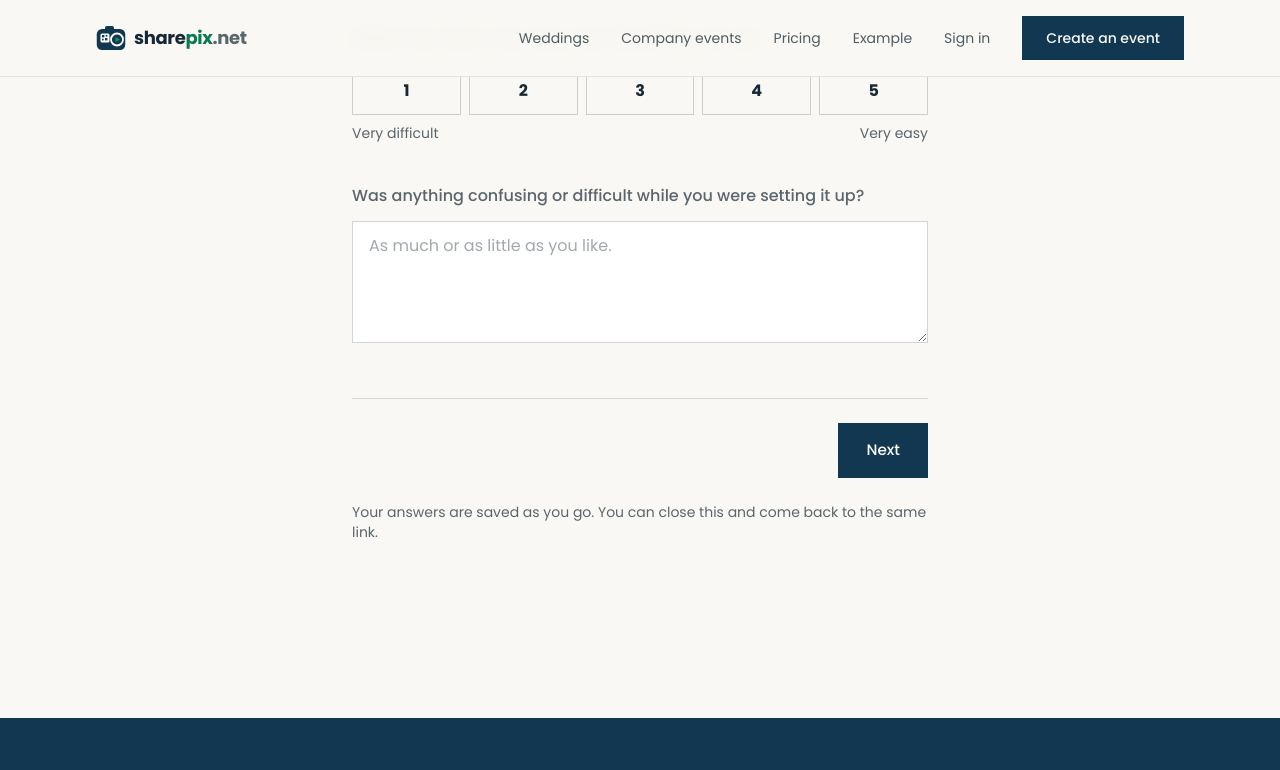
Test case: submitting › sends the answers and shows the thank-you
The width and height of the screenshot is (1280, 770).
(page scrolled)
What coordinates should you click on to do the following:
click the button "Next"
I would click on:
 (883, 450)
Its box is x1=838 y1=423 x2=928 y2=478.
(page scrolled)
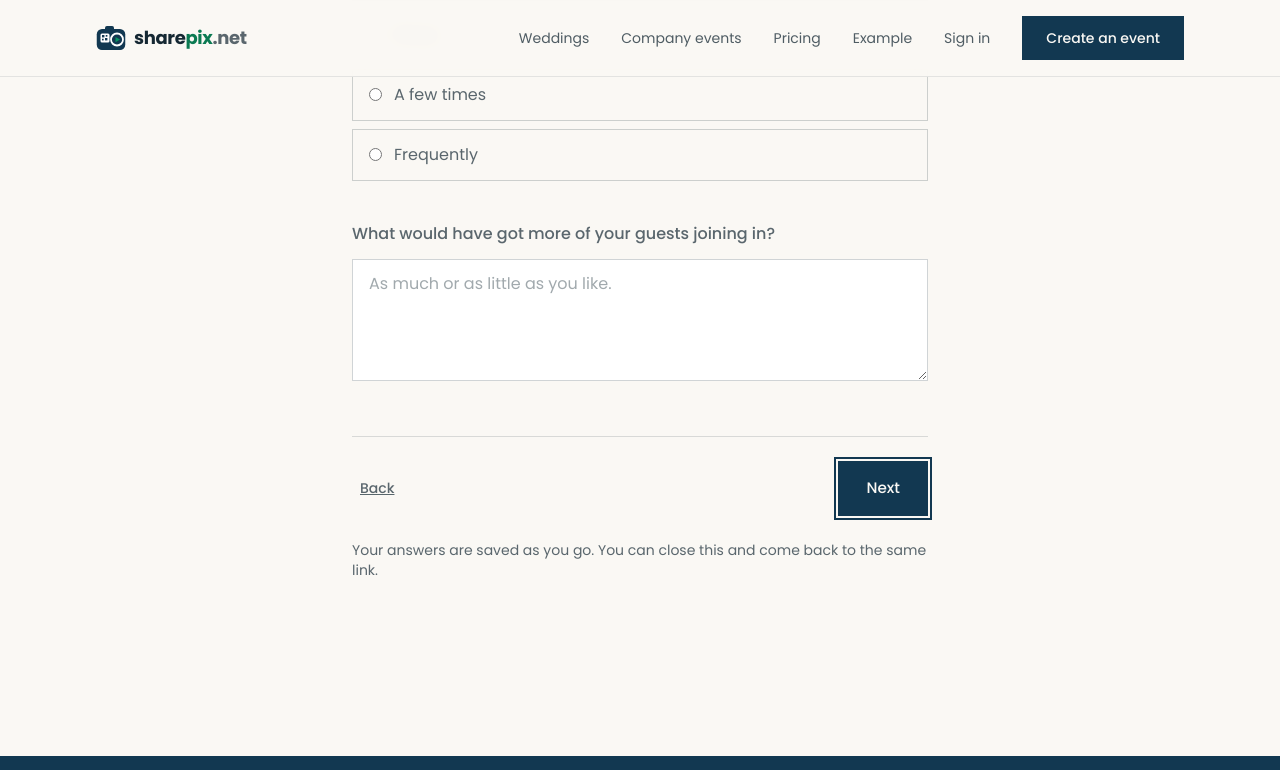
What coordinates should you click on to do the following:
click the button "Next"
I would click on:
 (883, 488)
Its box is x1=838 y1=461 x2=928 y2=516.
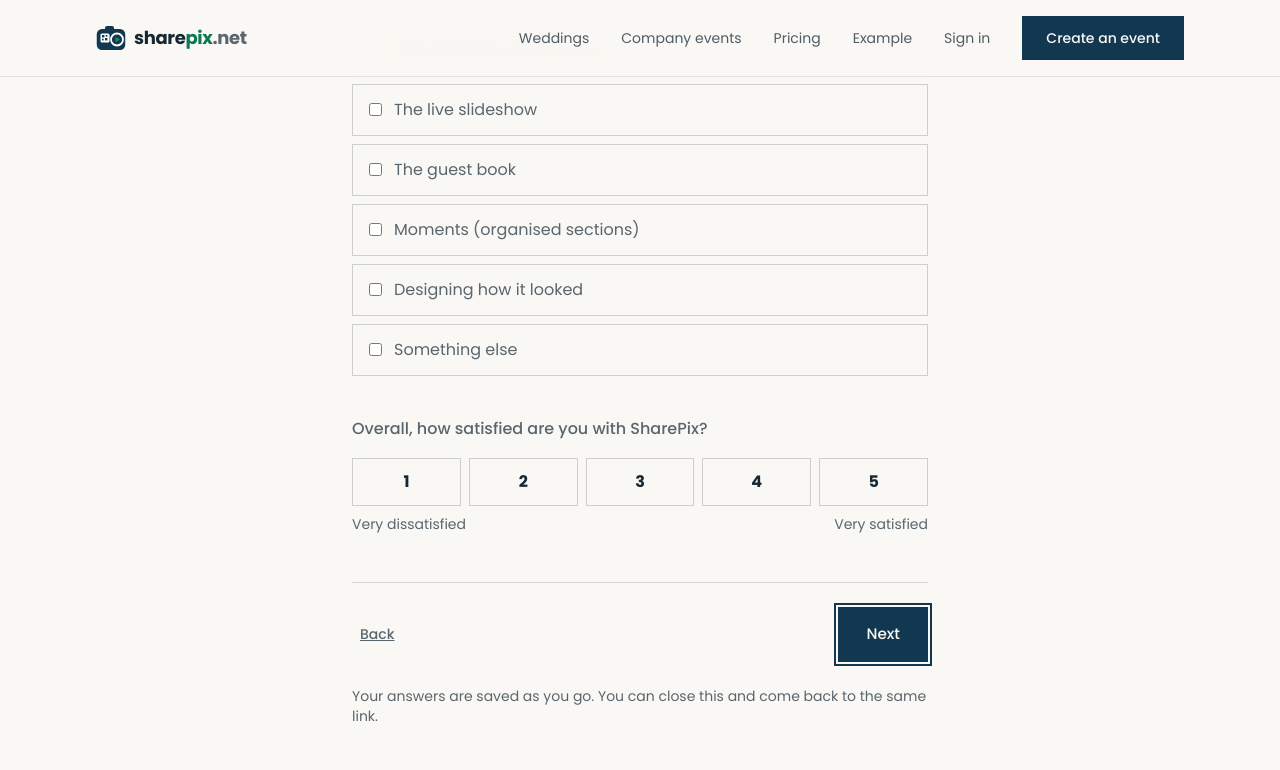
What coordinates should you click on to do the following:
click the button "Next"
I would click on:
 (883, 634)
Its box is x1=838 y1=607 x2=928 y2=662.
(page scrolled)
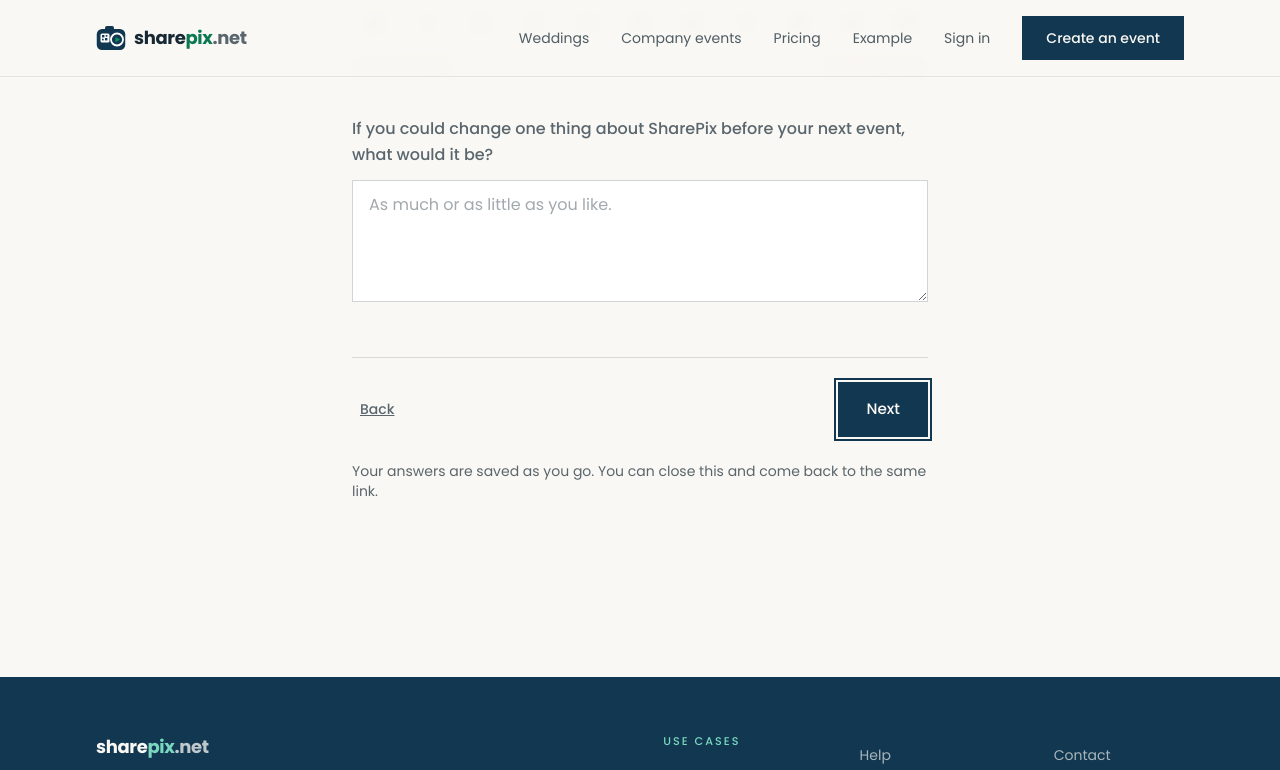
What coordinates should you click on to do the following:
click the button "Next"
I would click on:
 (883, 409)
Its box is x1=838 y1=382 x2=928 y2=437.
(page scrolled)
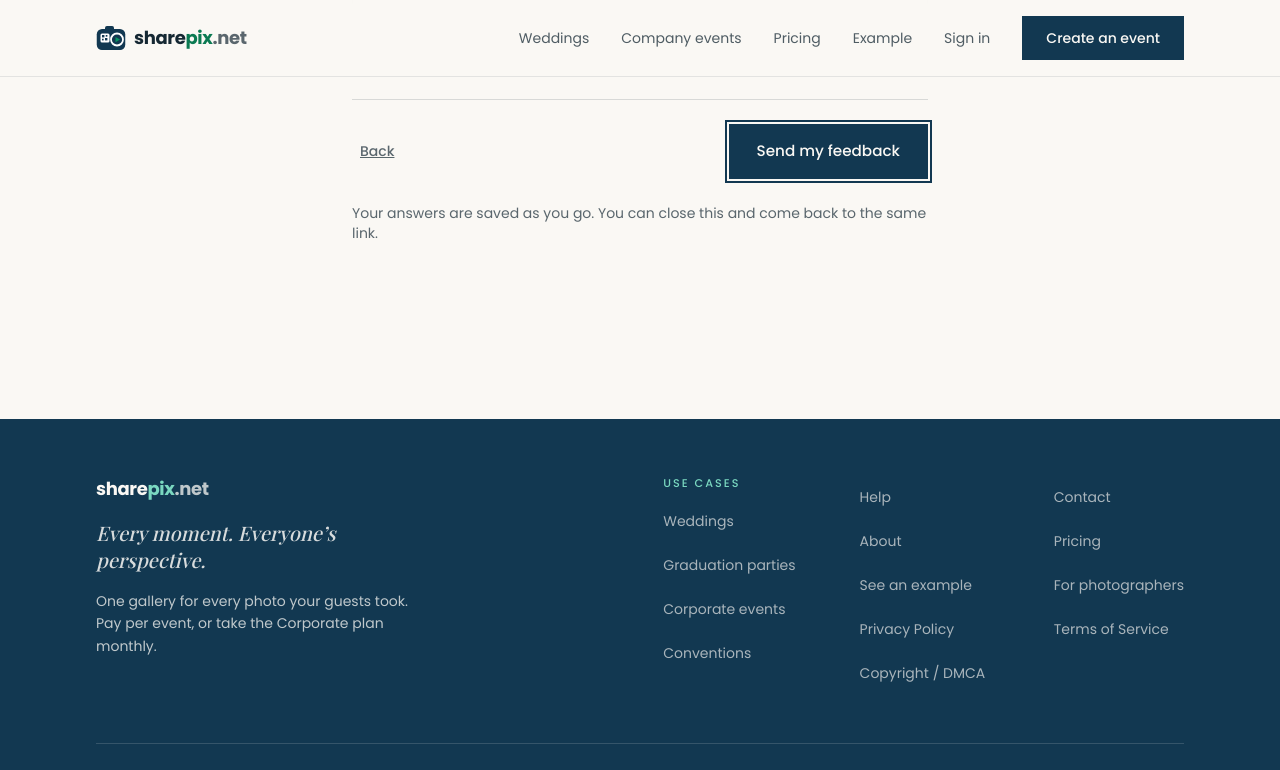
What coordinates should you click on to do the following:
click the button "Send my feedback"
I would click on:
 (828, 151)
Its box is x1=729 y1=124 x2=928 y2=179.
(page scrolled)
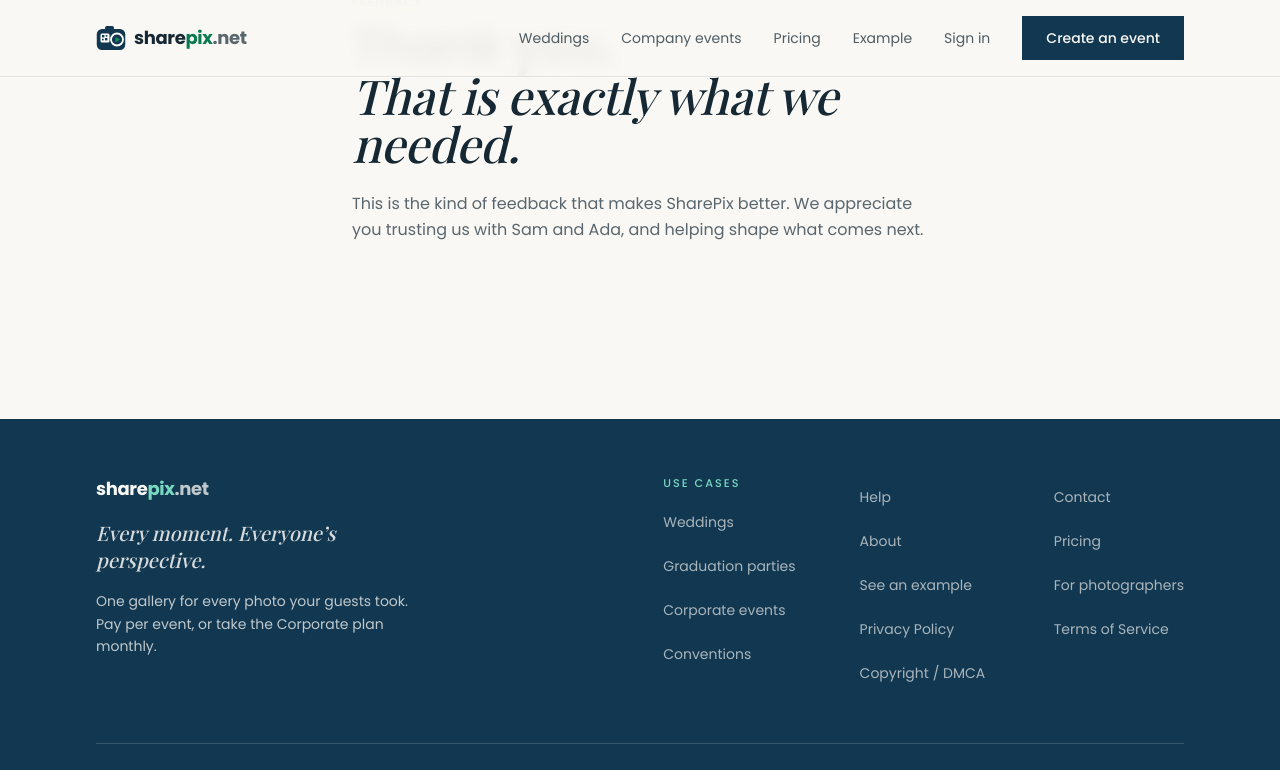
Result: the text "That is exactly what we needed." is shown at x1=352 y1=63 x2=837 y2=175
